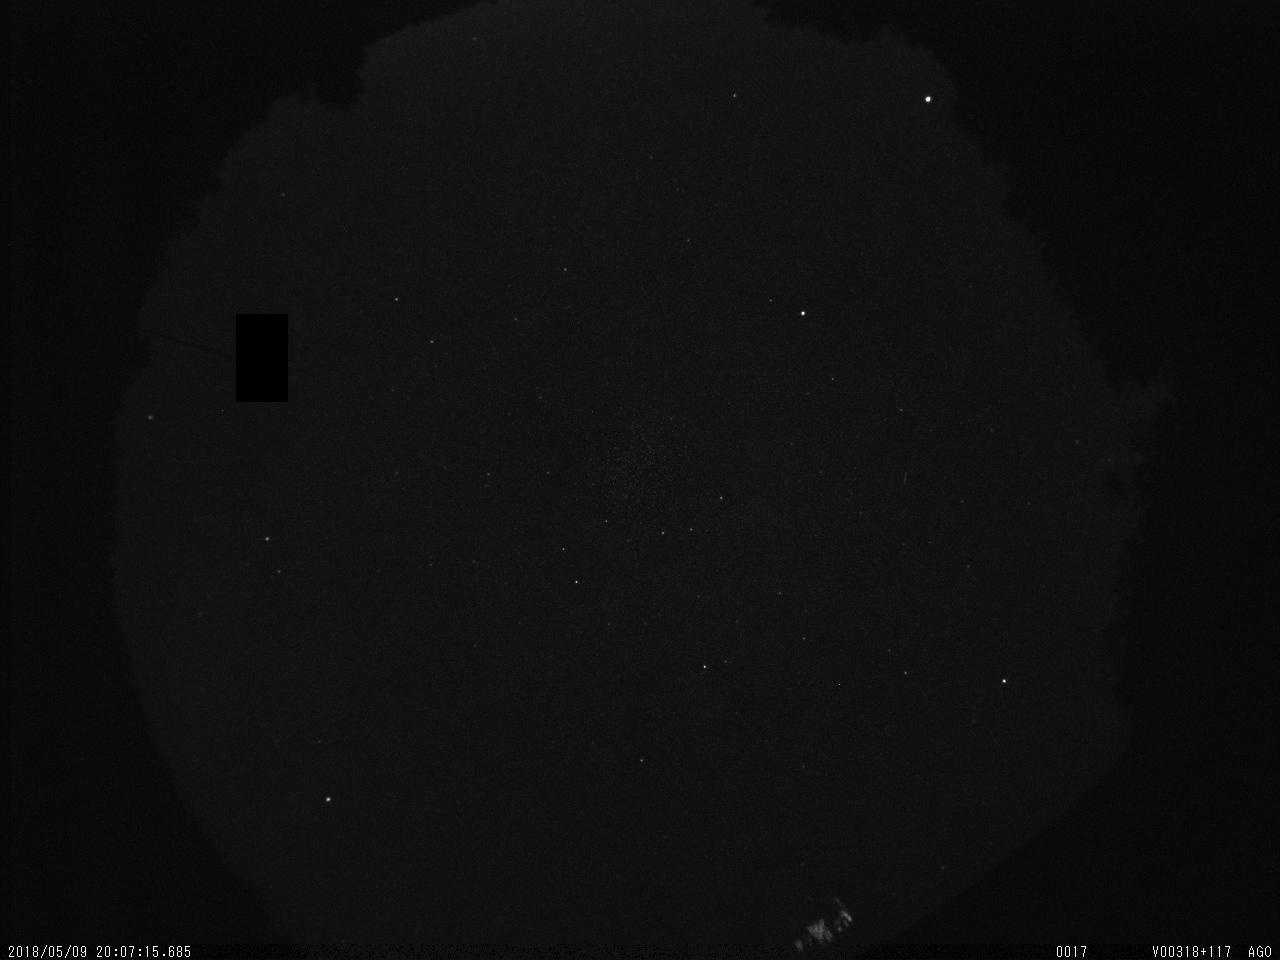TLE: (768, 882, 875, 960)
